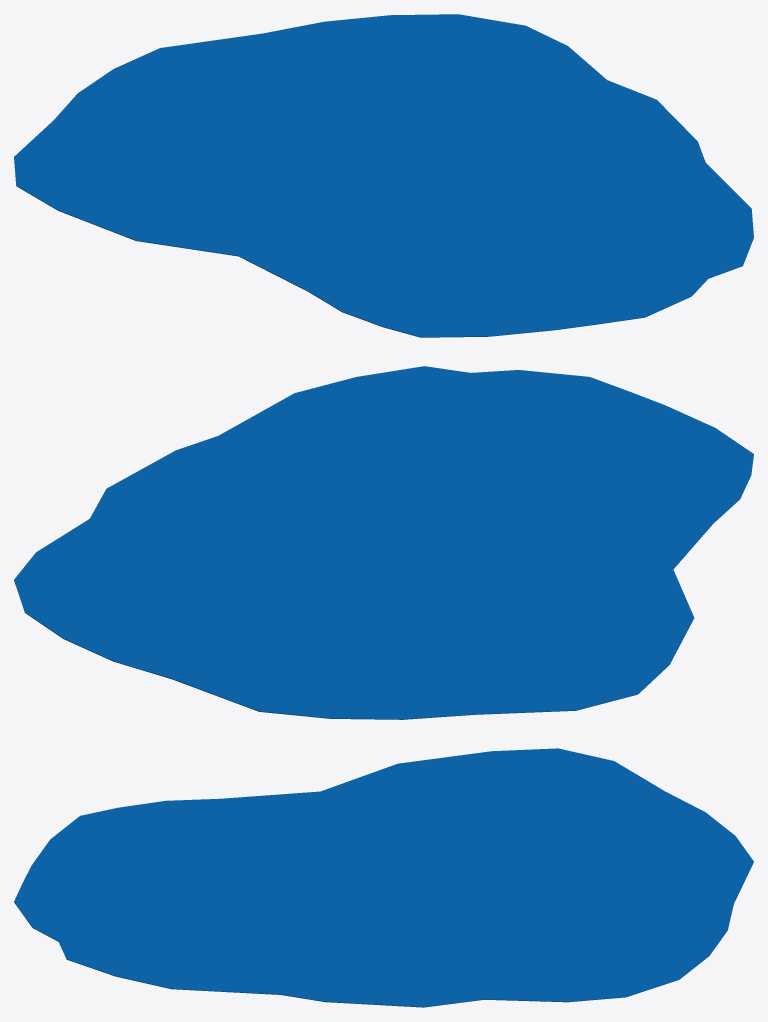
File: puddle.glb
3 views of the same model, one above another, from view 1: azimuth 30°, elevation 25°; view 2: azimuth 150°, elevation 25°; view 3: azimuth 270°, elevation 25° (orthographic). The views are drawn at different scales.
Bounding box in the file's own units: 8.51 × 0.00899 × 10.29.
Materials: 1 (1 with a texture image).
